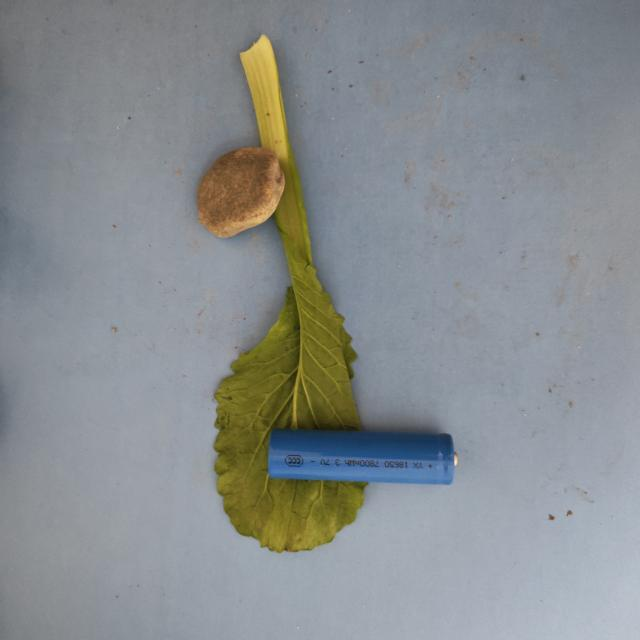-Hazardous waste - battery-: (265, 430, 460, 488)
-Kitchen waste - vegetable roots and leaves-: (220, 57, 362, 554)
-Other waste - pebble-: (198, 144, 283, 239)
